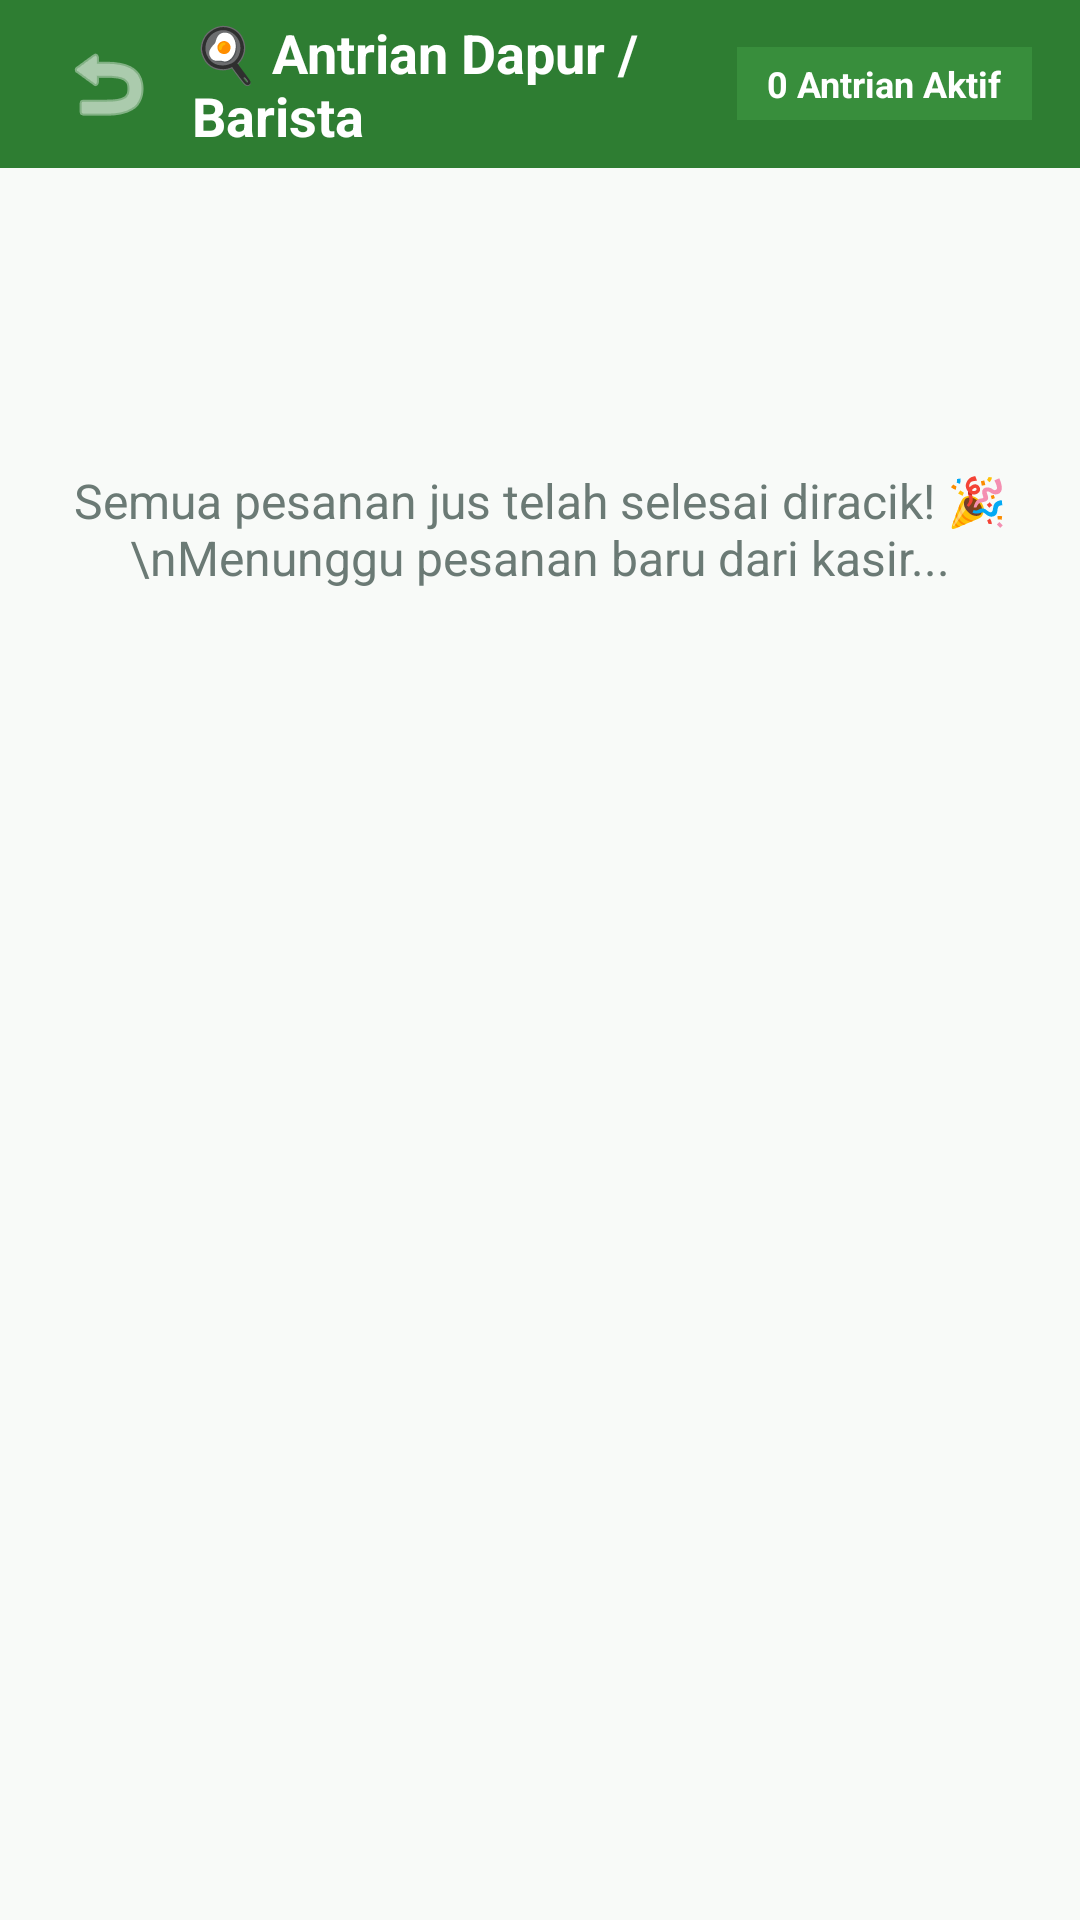

Icon bounding boxes for this 1080px×1920px phone screenshot, format (x1, y1, x2, y2):
revert: (75, 53, 144, 116)
